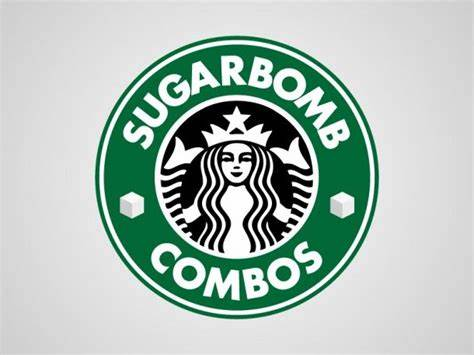starbucks Fake: (90, 27, 386, 323)
